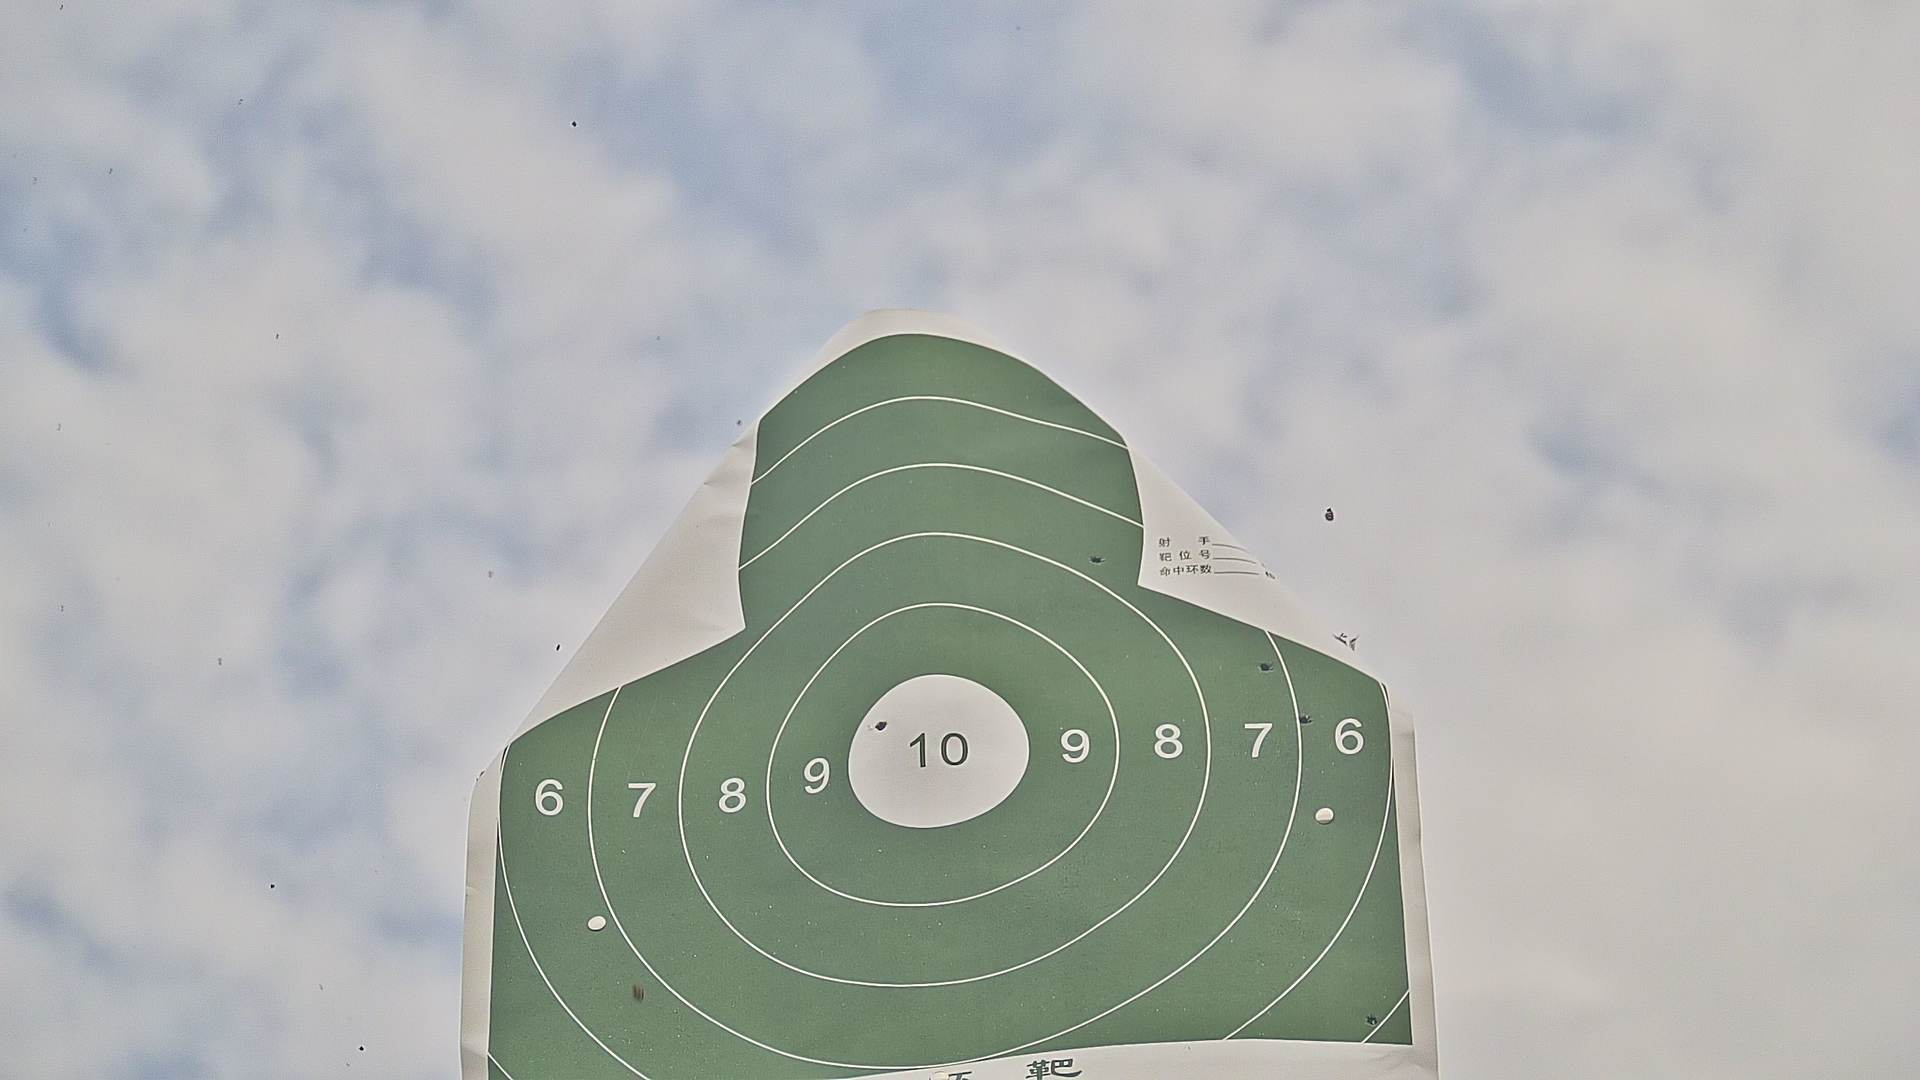hole: (1365, 1014, 1378, 1027), (1091, 553, 1104, 564), (1259, 659, 1271, 673), (1298, 713, 1311, 725), (876, 719, 887, 731)
kernel: (932, 746, 935, 752)
target: (487, 336, 1414, 1080)
ten: (851, 676, 1030, 831)
